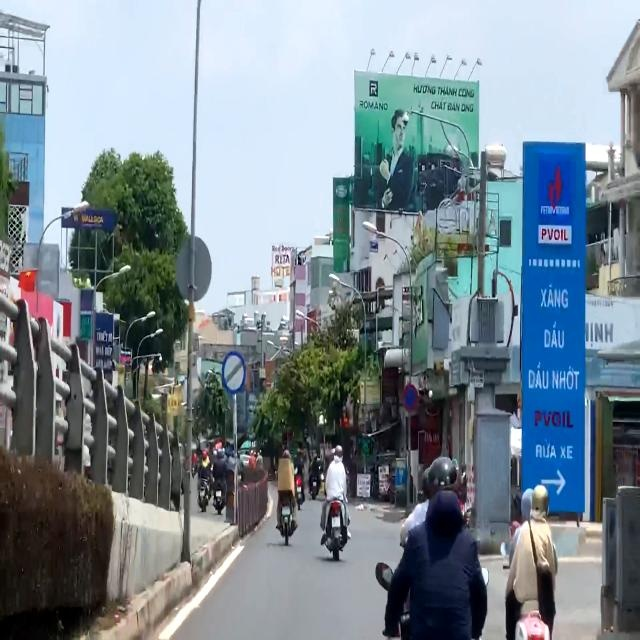bien_cam: (221, 351, 246, 395), (403, 384, 418, 412)
